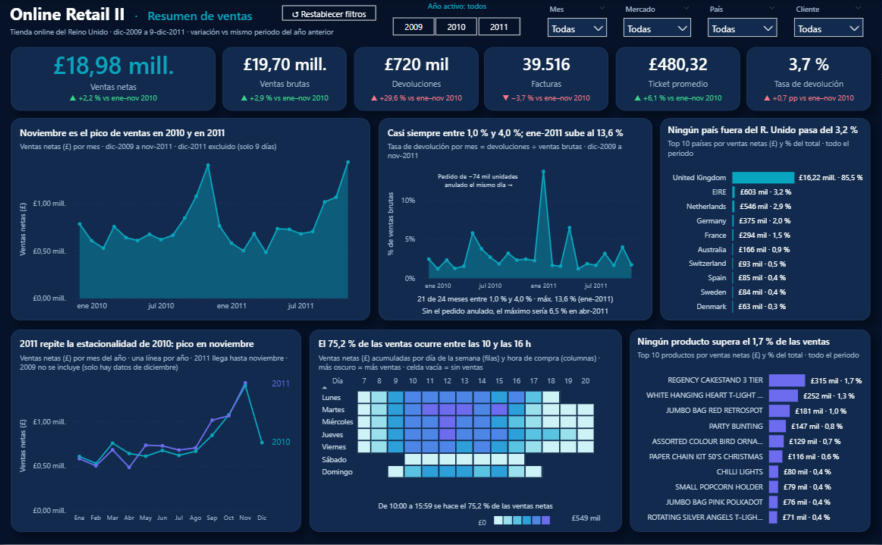

Layout of this report page (visuals, bound fields, positions):
{"tool":"powerbi","page":{"name":"Resumen","canvas":[1280,788],"ordinal":0},"visuals":[{"type":"textbox","box":[12,0,540,64],"z":0},{"type":"card","fields":{"Values":["fact_ventas.Año seleccionado"]},"box":[548,2,232,20],"z":1000},{"type":"slicer","fields":{"Values":["dim_fecha.anio"]},"box":[548,22,232,36],"z":2000},{"type":"actionButton","box":[410,8,136,22],"z":3000},{"type":"slicer","fields":{"Values":["dim_fecha.mes_nombre"]},"box":[788,4,104,56],"z":4000},{"type":"slicer","fields":{"Values":["dim_pais.mercado"]},"box":[898,4,116,56],"z":5000},{"type":"slicer","fields":{"Values":["dim_pais.pais"]},"box":[1020,4,118,56],"z":6000},{"type":"slicer","fields":{"Values":["dim_cliente.cliente_pais"]},"box":[1144,4,118,56],"z":7000},{"type":"card","fields":{"Values":["fact_ventas.Txt Ventas Netas"]},"box":[18,68,296,92],"z":8000},{"type":"card","fields":{"Values":["fact_ventas.Var Ventas Netas"]},"box":[18,130,296,28],"z":9000},{"type":"card","fields":{"Values":["fact_ventas.Txt Ventas Brutas"]},"box":[324,68,180,92],"z":10000},{"type":"card","fields":{"Values":["fact_ventas.Var Ventas Brutas"]},"box":[324,130,180,28],"z":11000},{"type":"card","fields":{"Values":["fact_ventas.Txt Devoluciones"]},"box":[514,68,180,92],"z":12000},{"type":"card","fields":{"Values":["fact_ventas.Var Devoluciones"]},"box":[514,130,180,28],"z":13000},{"type":"card","fields":{"Values":["fact_ventas.Txt Facturas"]},"box":[703,68,180,92],"z":14000},{"type":"card","fields":{"Values":["fact_ventas.Var Facturas"]},"box":[703,130,180,28],"z":15000},{"type":"card","fields":{"Values":["fact_ventas.Txt Ticket Promedio"]},"box":[893,68,180,92],"z":16000},{"type":"card","fields":{"Values":["fact_ventas.Var Ticket Promedio"]},"box":[893,130,180,28],"z":17000},{"type":"card","fields":{"Values":["fact_ventas.Txt % Devoluciones"]},"box":[1082,68,180,92],"z":18000},{"type":"card","fields":{"Values":["fact_ventas.Var Tasa Devolucion"]},"box":[1082,130,180,28],"z":19000},{"type":"areaChart","fields":{"Category":["dim_fecha.inicio_mes"],"Y":["fact_ventas.Ventas Netas (eje)"]},"box":[18,172,520,293],"z":20000},{"type":"areaChart","fields":{"Category":["dim_fecha.inicio_mes"],"Y":["fact_ventas.% Devoluciones"]},"box":[550,172,396,293],"z":21000},{"type":"card","fields":{"Values":["fact_ventas.Nota tasa devolución"]},"box":[560,427,376,18],"z":22000},{"type":"card","fields":{"Values":["fact_ventas.Nota tasa sin anulado"]},"box":[560,444,376,18],"z":23000},{"type":"card","fields":{"Values":["fact_ventas.Anotación pico"]},"box":[620,246,150,34],"z":24000},{"type":"clusteredBarChart","fields":{"Category":["dim_pais.pais"],"Y":["fact_ventas.Ventas Netas Top10 País"]},"box":[958,172,304,293],"z":25000},{"type":"lineChart","fields":{"Category":["dim_fecha.mes_abrev"],"Series":["dim_fecha.anio"],"Y":["fact_ventas.Ventas Netas (eje)"]},"box":[18,477,420,293],"z":26000},{"type":"pivotTable","fields":{"Rows":["dim_fecha.dia_semana_nombre"],"Columns":["fact_ventas.hora"],"Values":["fact_ventas.Ventas Netas (miles)"]},"box":[450,477,452,293],"z":27000},{"type":"card","fields":{"Values":["fact_ventas.Nota mapa calor"]},"box":[460,726,432,18],"z":28000},{"type":"textbox","box":[670,746,36,20],"z":29000},{"type":"textbox","box":[706,742,104,22],"z":30000},{"type":"card","fields":{"Values":["fact_ventas.Txt Máx celda mapa calor"]},"box":[808,743,84,20],"z":31000},{"type":"clusteredBarChart","fields":{"Category":["dim_producto.descripcion"],"Y":["fact_ventas.Ventas Netas Top10 Producto"]},"box":[914,477,348,293],"z":32000}]}

Visuals, with their boxes in screenshot pixels (x1, y1, x2, y2), scaled from the page's 1280x788 canvas onto the 882x545 screenshot:
textbox: (8, 0, 380, 44)
card - fact_ventas.Año seleccionado: (378, 1, 537, 15)
slicer - dim_fecha.anio: (378, 15, 537, 40)
actionButton: (283, 6, 376, 21)
slicer - dim_fecha.mes_nombre: (543, 3, 615, 41)
slicer - dim_pais.mercado: (619, 3, 699, 41)
slicer - dim_pais.pais: (703, 3, 784, 41)
slicer - dim_cliente.cliente_pais: (788, 3, 870, 41)
card - fact_ventas.Txt Ventas Netas: (12, 47, 216, 111)
card - fact_ventas.Var Ventas Netas: (12, 90, 216, 109)
card - fact_ventas.Txt Ventas Brutas: (223, 47, 347, 111)
card - fact_ventas.Var Ventas Brutas: (223, 90, 347, 109)
card - fact_ventas.Txt Devoluciones: (354, 47, 478, 111)
card - fact_ventas.Var Devoluciones: (354, 90, 478, 109)
card - fact_ventas.Txt Facturas: (484, 47, 608, 111)
card - fact_ventas.Var Facturas: (484, 90, 608, 109)
card - fact_ventas.Txt Ticket Promedio: (615, 47, 739, 111)
card - fact_ventas.Var Ticket Promedio: (615, 90, 739, 109)
card - fact_ventas.Txt % Devoluciones: (746, 47, 870, 111)
card - fact_ventas.Var Tasa Devolucion: (746, 90, 870, 109)
areaChart - dim_fecha.inicio_mes x fact_ventas.Ventas Netas (eje): (12, 119, 371, 322)
areaChart - dim_fecha.inicio_mes x fact_ventas.% Devoluciones: (379, 119, 652, 322)
card - fact_ventas.Nota tasa devolución: (386, 295, 645, 308)
card - fact_ventas.Nota tasa sin anulado: (386, 307, 645, 320)
card - fact_ventas.Anotación pico: (427, 170, 531, 194)
clusteredBarChart - dim_pais.pais x fact_ventas.Ventas Netas Top10 País: (660, 119, 870, 322)
lineChart - dim_fecha.mes_abrev x dim_fecha.anio: (12, 330, 302, 533)
pivotTable - dim_fecha.dia_semana_nombre x fact_ventas.hora: (310, 330, 622, 533)
card - fact_ventas.Nota mapa calor: (317, 502, 615, 515)
textbox: (462, 516, 486, 530)
textbox: (486, 513, 558, 528)
card - fact_ventas.Txt Máx celda mapa calor: (557, 514, 615, 528)
clusteredBarChart - dim_producto.descripcion x fact_ventas.Ventas Netas Top10 Producto: (630, 330, 870, 533)
